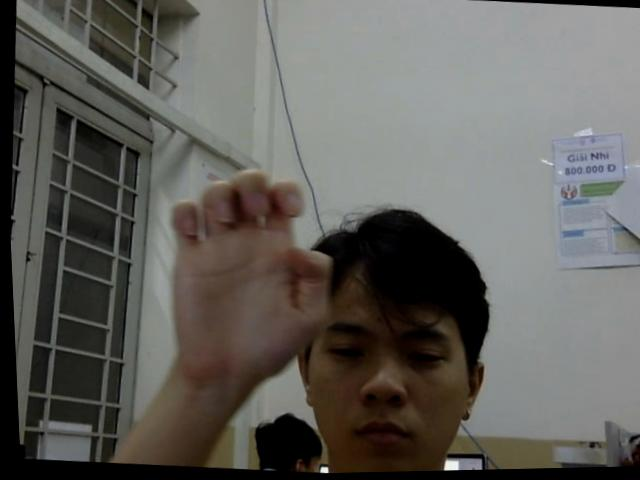E: (151, 160, 340, 392)
